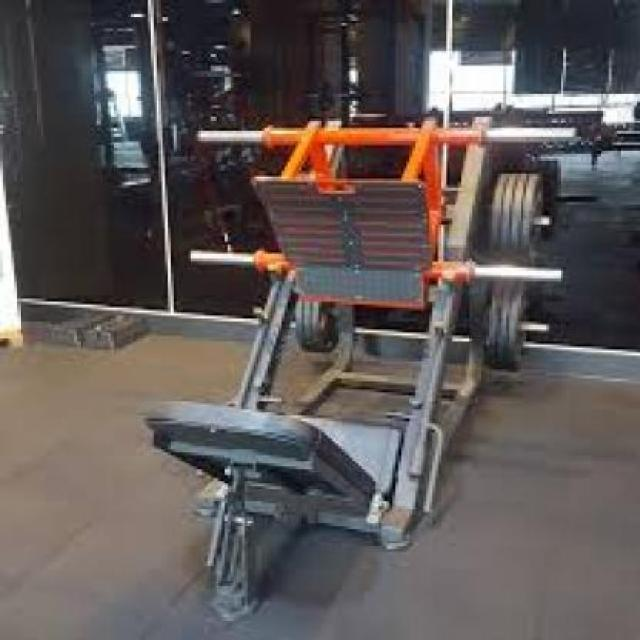leg press: (126, 103, 608, 637)
